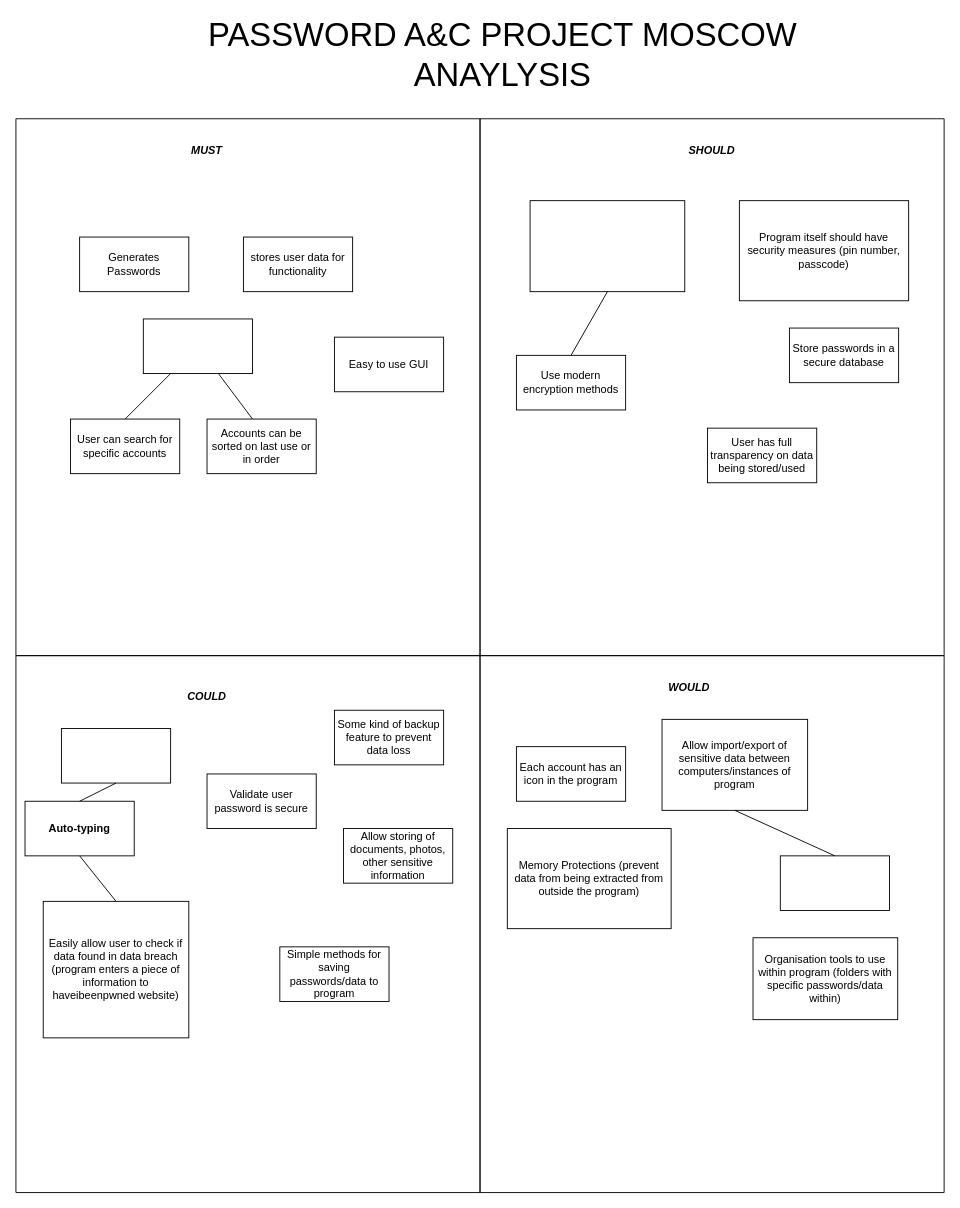
Some shapes in this 960 by 1208 pixel diagram are drawn without their labels. The shapes that lost their labels are listed below. From the top down, each one's centre as x and y in pixels, then its label:
At point (607, 246): "Encrypts user data(usernames & passwords)".
At point (197, 346): "Separates user data by specific accounts e.g. Facebook. Twitter".
At point (116, 755): "Manages logging in on browser".
At point (834, 882): "Export data to files".
